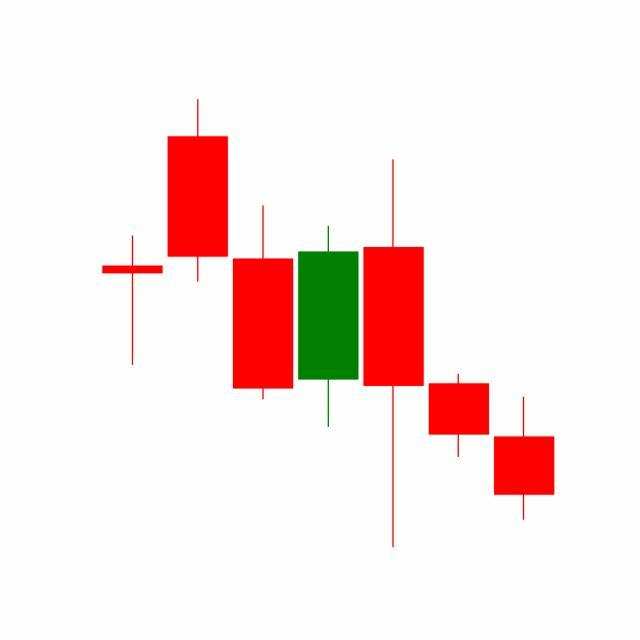Three Outside Up-Down: (295, 155, 492, 548)
